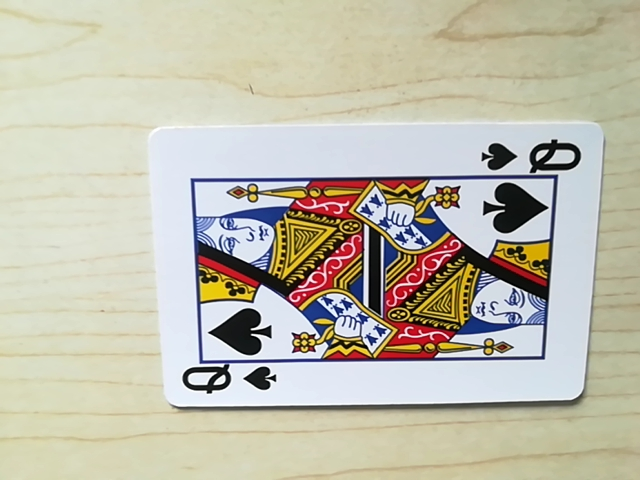ht q: (176, 359, 277, 403), (482, 133, 580, 176)
